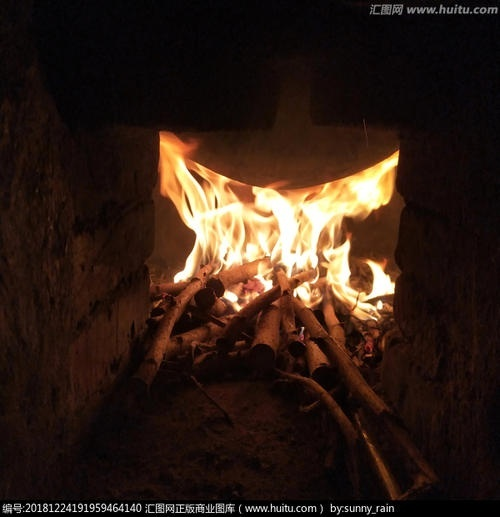fire: (156, 129, 405, 311)
